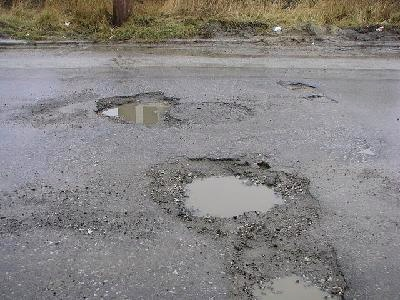pothole: (144, 151, 325, 240), (221, 244, 351, 298), (91, 89, 180, 129), (277, 77, 317, 90), (302, 92, 336, 103)
